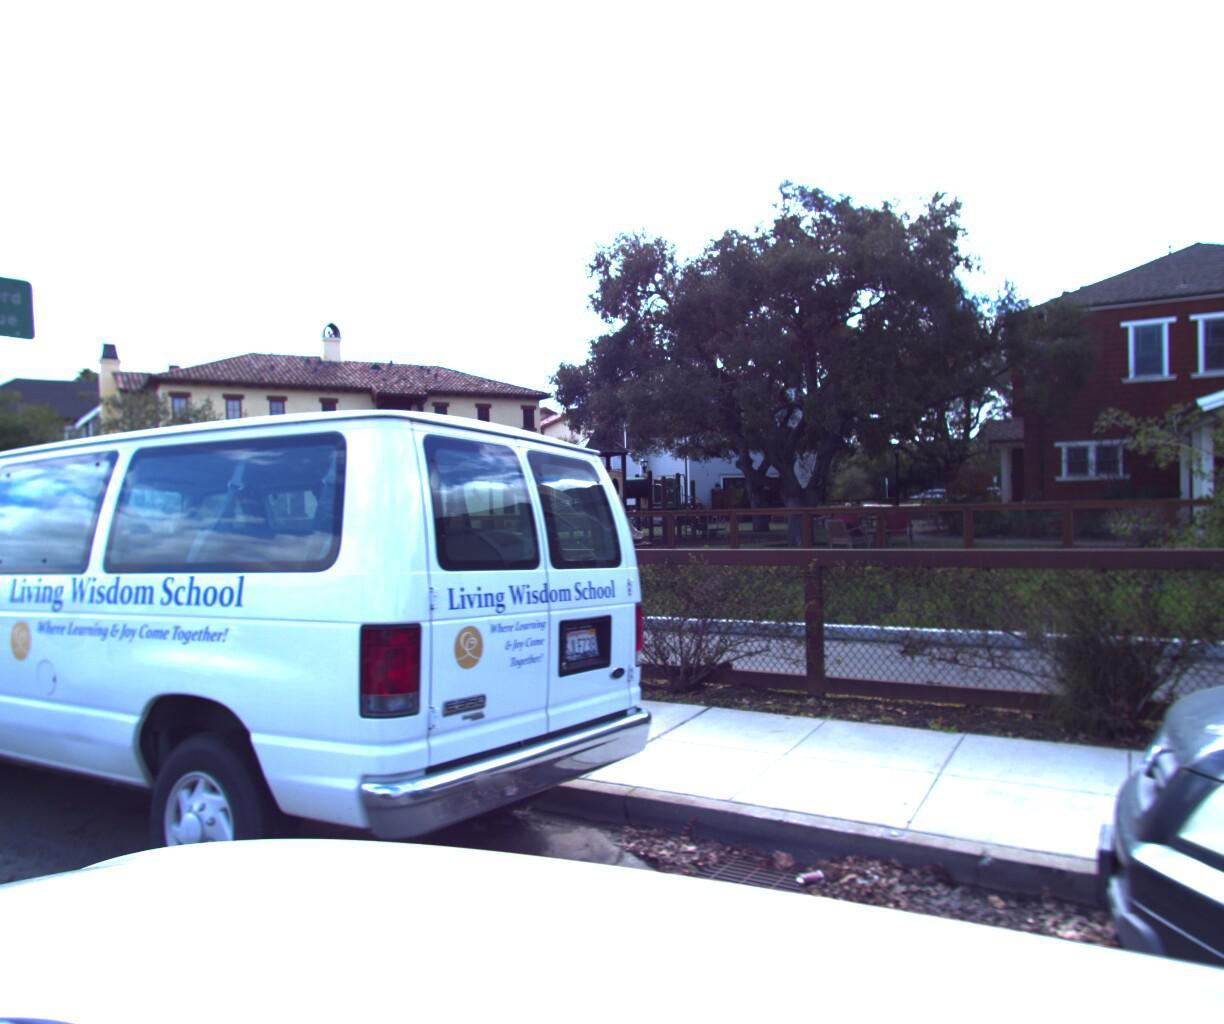car: (0, 391, 653, 1024), (0, 475, 13, 771)
